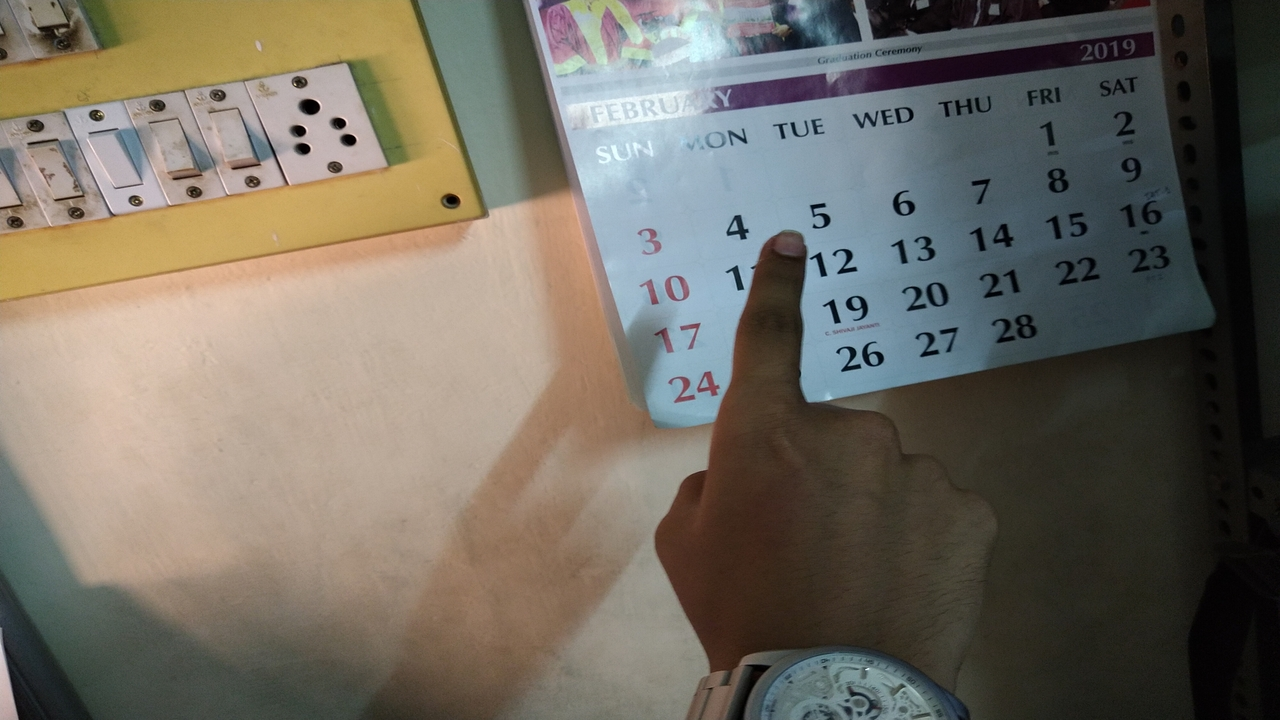fingertip: (754, 226, 812, 276)
